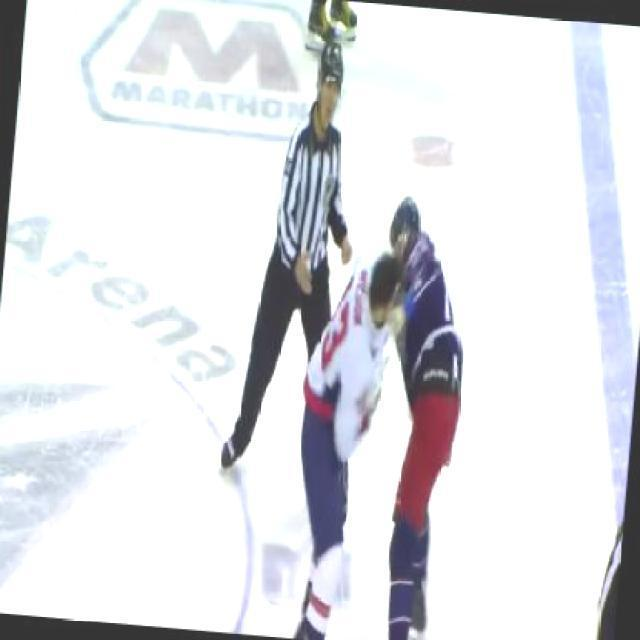fight: (282, 183, 482, 639)
